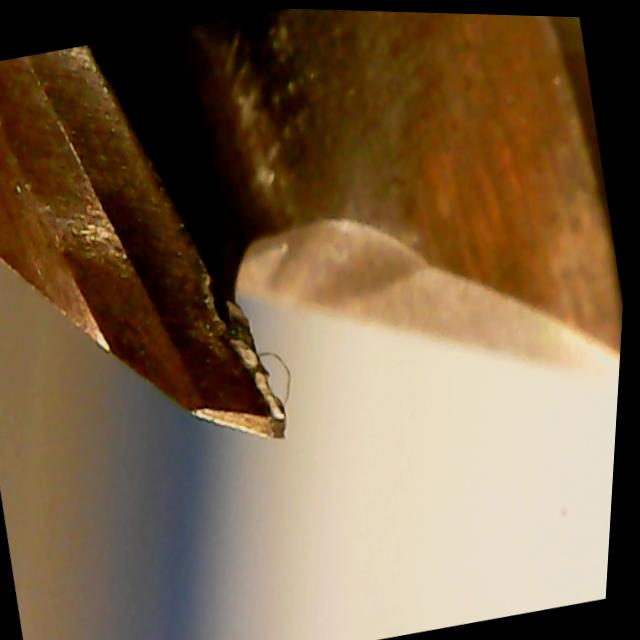Tool-wear-class-2: (79, 151, 319, 489)
